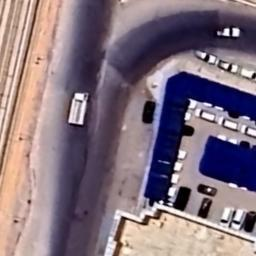SUV: (194, 50, 217, 64), (218, 60, 238, 74)
pickup: (216, 27, 240, 37)
sedan: (142, 100, 156, 124), (198, 198, 212, 218), (196, 184, 218, 196)
truck: (66, 91, 90, 126), (194, 108, 216, 122), (219, 115, 239, 130), (241, 124, 256, 138)
unknown: (180, 124, 194, 136), (178, 150, 186, 160), (174, 162, 182, 172), (171, 174, 178, 184), (184, 112, 191, 121), (228, 182, 238, 188), (218, 134, 228, 140), (168, 188, 174, 196), (189, 100, 195, 108), (204, 102, 212, 107), (230, 139, 238, 143), (216, 106, 222, 110)
van: (173, 187, 192, 210), (230, 208, 248, 230), (220, 207, 236, 227), (245, 211, 256, 233), (242, 69, 256, 80), (240, 140, 250, 150)
